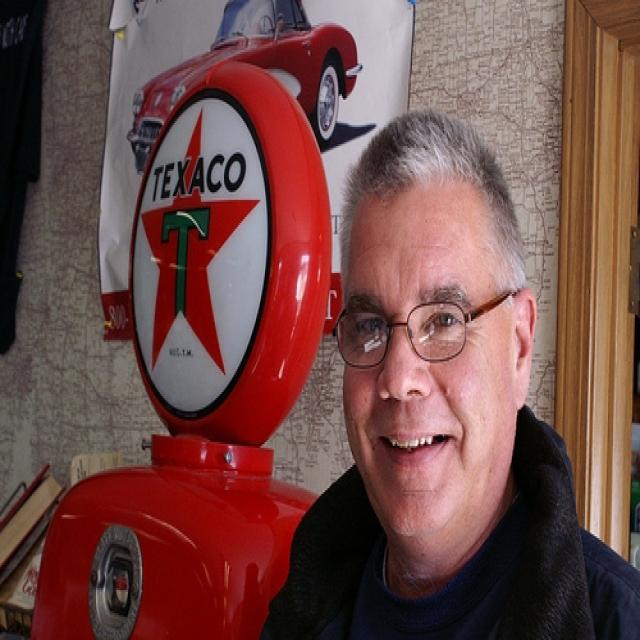texaco: (135, 99, 270, 414)
